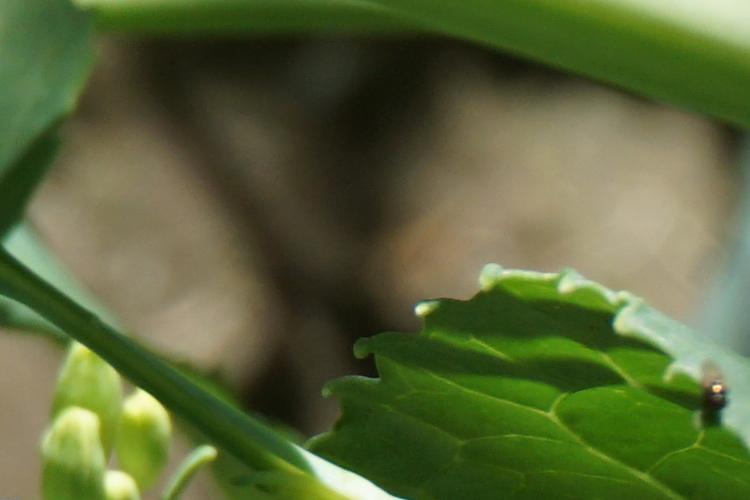bud: (48, 346, 122, 440), (35, 413, 107, 500), (113, 394, 180, 475), (99, 461, 140, 500)
